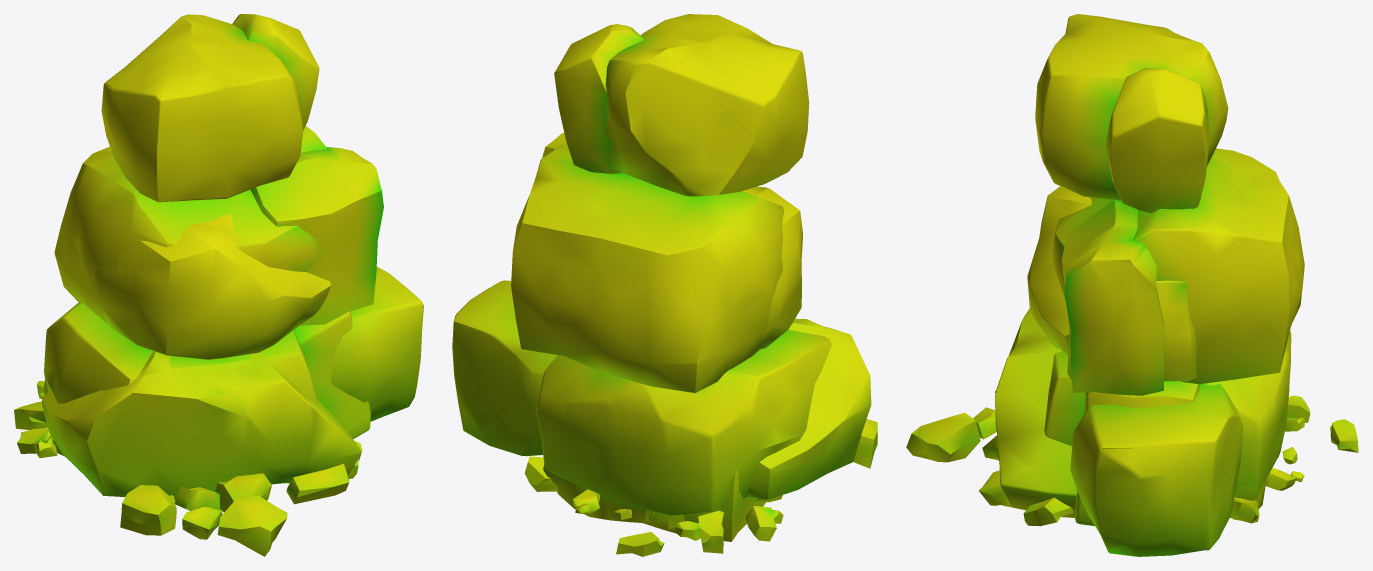
The model's file is crags.glb.
3 renders of one model, left to right at view 1: azimuth 30°, elevation 25°; view 2: azimuth 150°, elevation 25°; view 3: azimuth 270°, elevation 25°, orthographic. The views are drawn at different scales.
Parts seen in each view (by area): view 1: tor-a, tor-b, scree-a; view 2: tor-a, tor-b, scree-a, boulder-c, scree-b; view 3: tor-a, tor-b, scree-a, scree-b.
Boxes of the visible parts, <box> form: tor-a: <box>42,14,423,496</box>; tor-b: <box>44,214,370,439</box>; scree-a: <box>14,381,362,556</box>; tor-a: <box>452,14,871,499</box>; tor-b: <box>536,186,831,515</box>; scree-a: <box>524,419,877,556</box>; boulder-c: <box>543,464,765,541</box>; scree-b: <box>573,489,631,519</box>; tor-a: <box>995,14,1304,556</box>; tor-b: <box>1027,186,1291,525</box>; scree-a: <box>906,391,1358,526</box>; scree-b: <box>1266,447,1297,490</box>.
Size of what is drawn, in the model's own units: 6.62 by 7.61 by 6.91.
